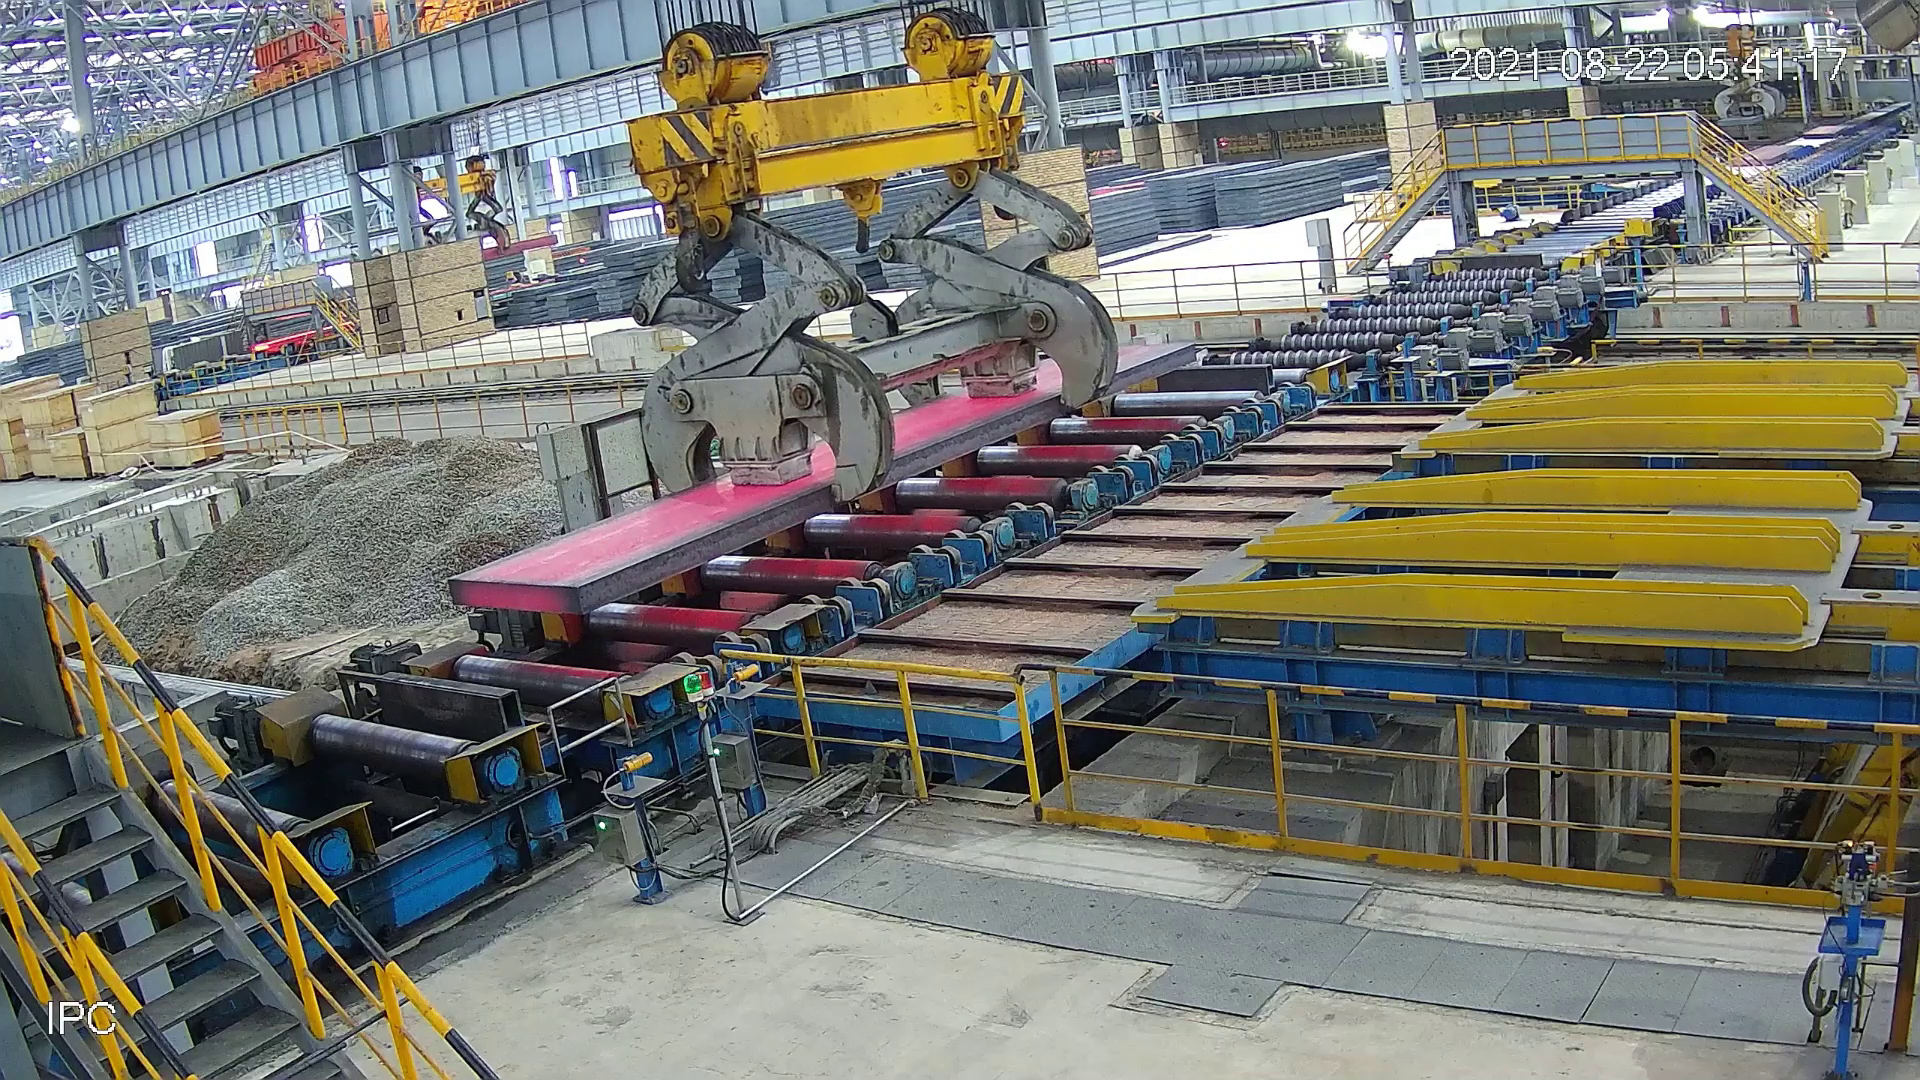craneandslab: (436, 5, 1211, 634), (1704, 21, 1795, 132)
